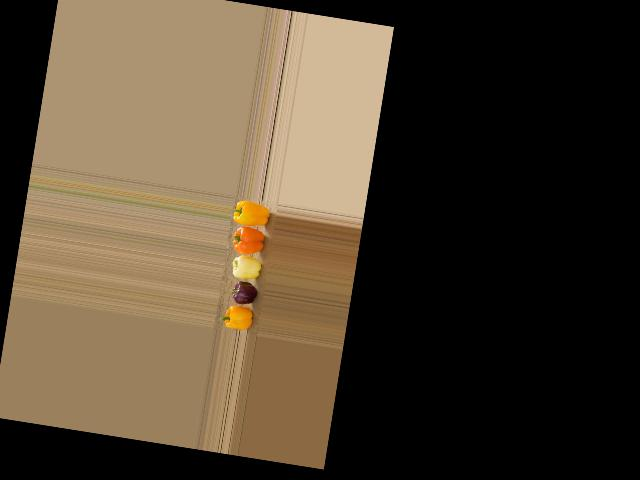bell_pepper: (217, 305, 259, 334)
